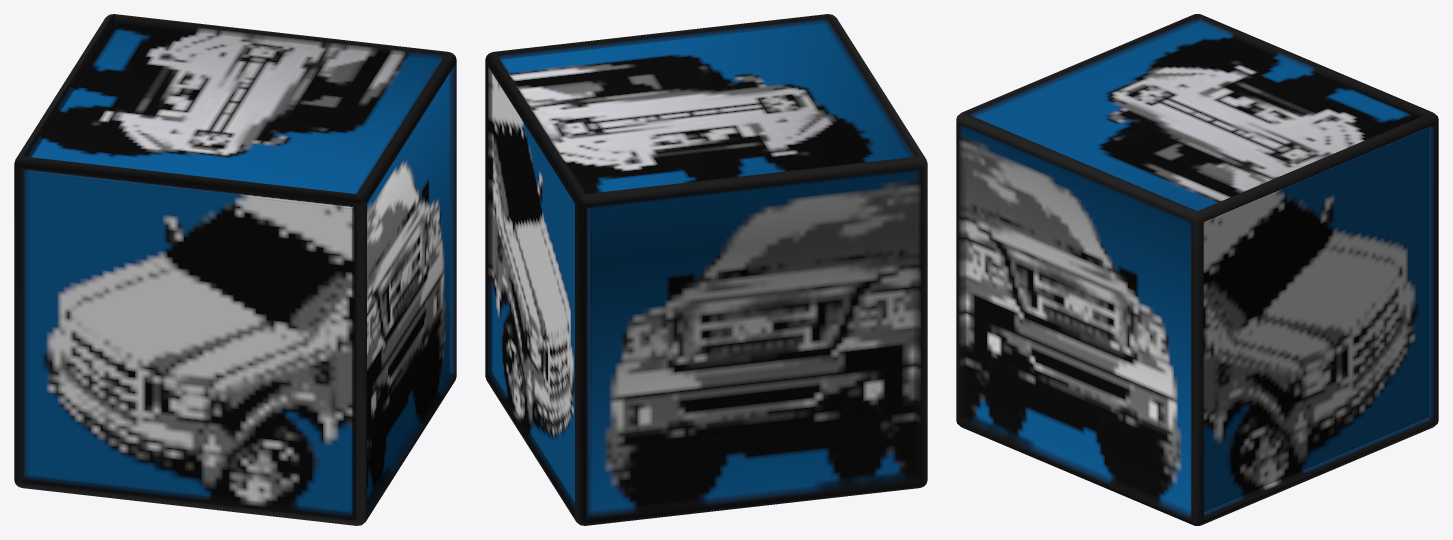
Rendered from PSICON.ICO.obj.
The picture shows the model from 3 angles, left to right: view 1: azimuth 30°, elevation 25°; view 2: azimuth 150°, elevation 25°; view 3: azimuth 270°, elevation 25°; orthographic projection. The views are drawn at different scales.
Size of the model in its own units: 3.51 by 2.52 by 3.51.
1 material, 1 textured.
